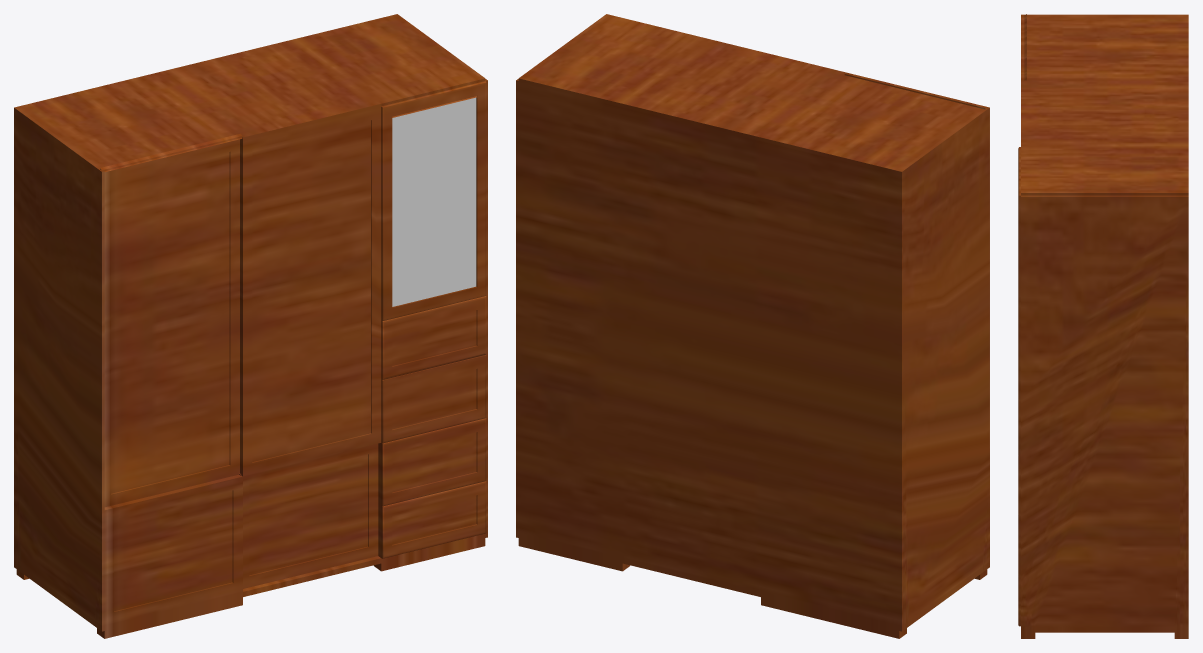
The model's file is ropero.glb.
The picture shows the model from 3 angles, left to right: view 1: azimuth 30°, elevation 25°; view 2: azimuth 150°, elevation 25°; view 3: azimuth 270°, elevation 25°; orthographic projection. The views are drawn at different scales.
Visible parts, largest first — view 1: Cube_0; view 2: Cube_0; view 3: Cube_0.
Part boxes in pixels (x1=…): Cube_0: x1=14, y1=14, x2=487, y2=638; Cube_0: x1=516, y1=14, x2=989, y2=638; Cube_0: x1=1018, y1=14, x2=1188, y2=638.
Bounding box in the file's own units: 1.59 × 1.85 × 0.6395.
2 materials, 1 textured.
